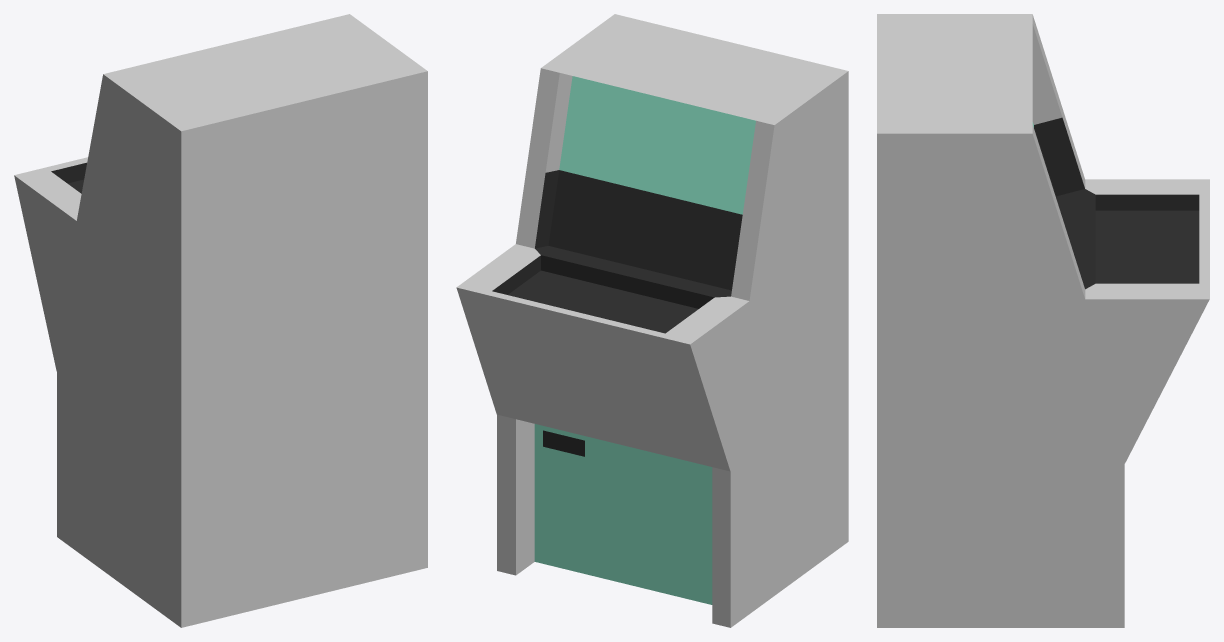
Rendered from GERADOR VERSÃO GRANDE1.fbx.
3 renders of one model, left to right at view 1: azimuth 30°, elevation 25°; view 2: azimuth 150°, elevation 25°; view 3: azimuth 270°, elevation 25°, orthographic. The views are drawn at different scales.
Visible parts, largest first — view 1: Cube.001; view 2: Cube.001, Cube.002; view 3: Cube.001, Cube.002.
Boxes of the visible parts, x1,y1,x2,y2 form: Cube.001: (14, 14, 427, 627); Cube.001: (456, 14, 848, 627); Cube.002: (665, 296, 730, 339); Cube.001: (877, 14, 1209, 627); Cube.002: (1086, 189, 1208, 194).
Size of the model in its own units: 0.8203 by 1.58 by 0.963.
